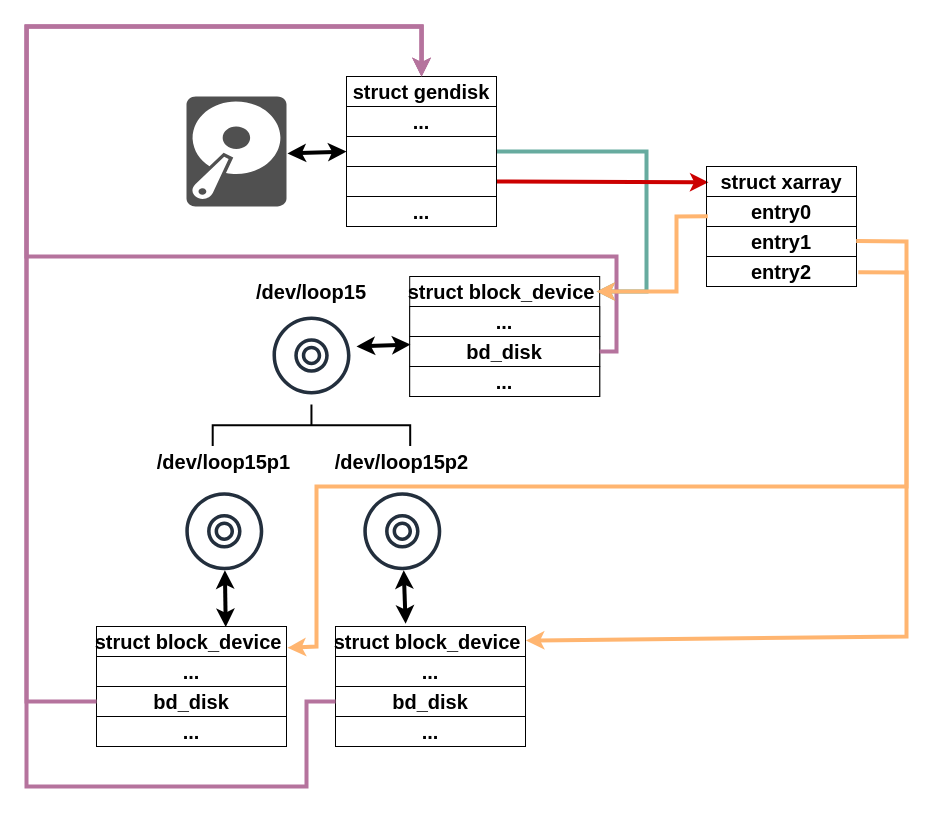
This 933x813 diagram has some shape labels left out. Here are the shapes that lost their labels. From the top down, the centre of each, then its label:
At (421,151): "part0".
At (421,181): "part_tbl".
